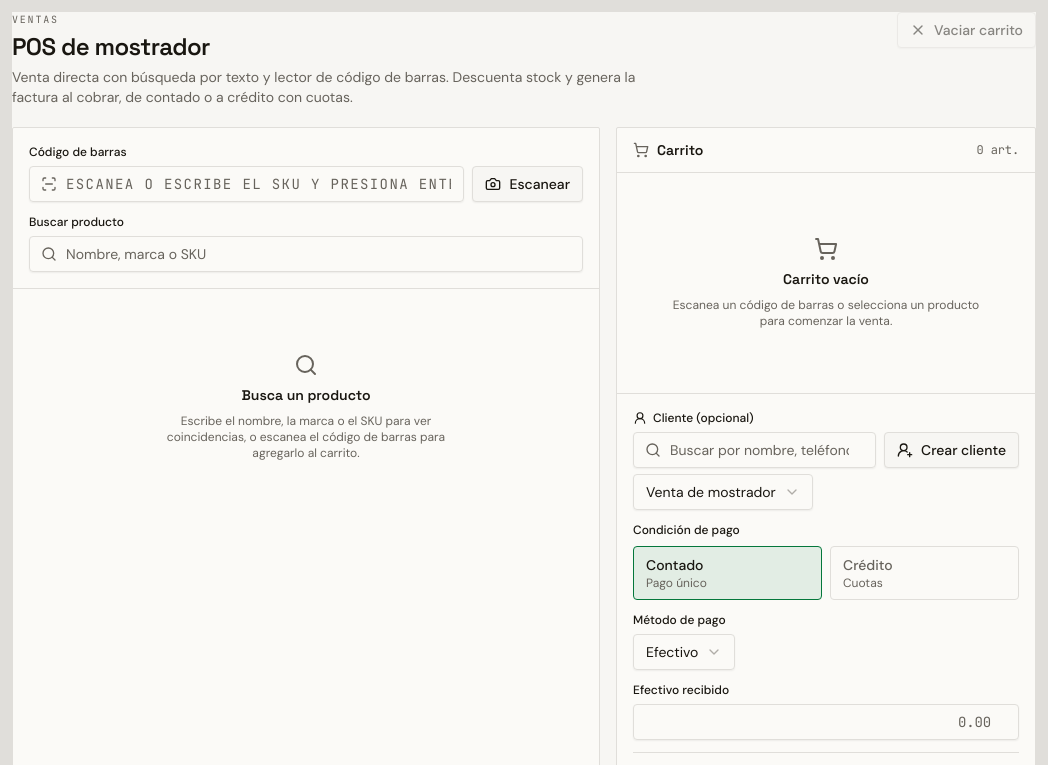
PosPage customer search (cover) › does not show a stale no-results message for the previous term while the new one loads
Type "Zzz" into the search field with test id "pos.customer_search_input".
click(754, 450); type("Zzz")  # box [633,432,876,468]
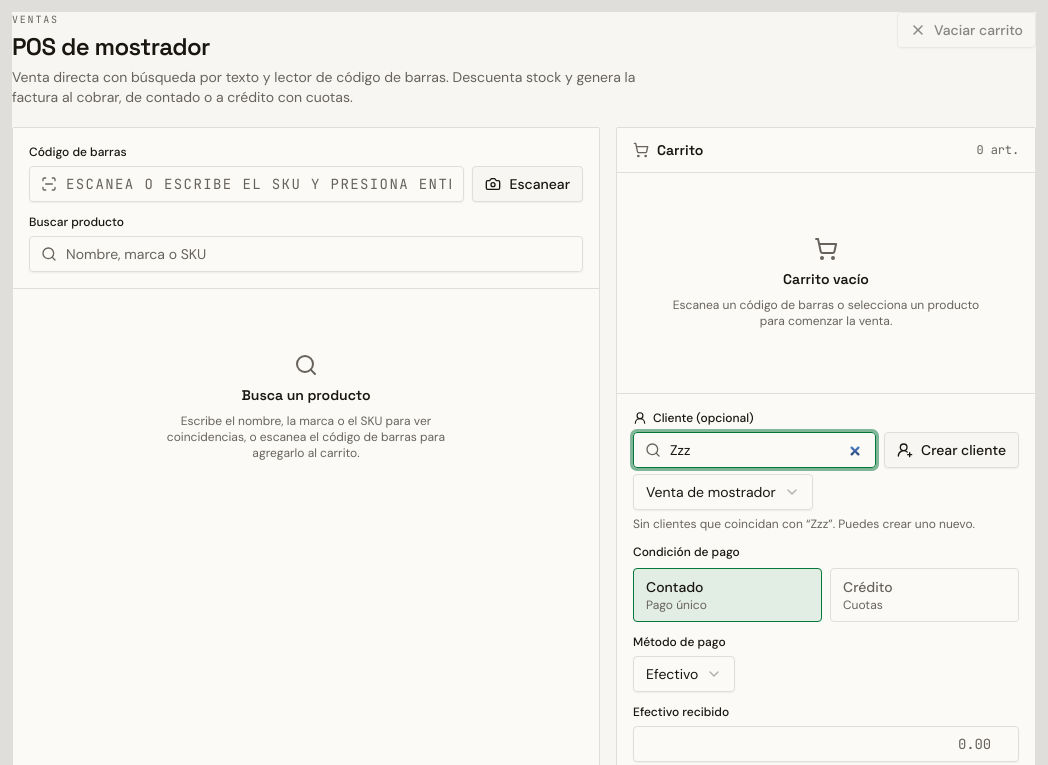
Result: the text with test id "pos.customer_search_empty_state" is shown at [633,516,1019,532]
Type "Ana" into the search field with test id "pos.customer_search_input".
click(754, 450); type("Ana")  # box [633,432,876,468]
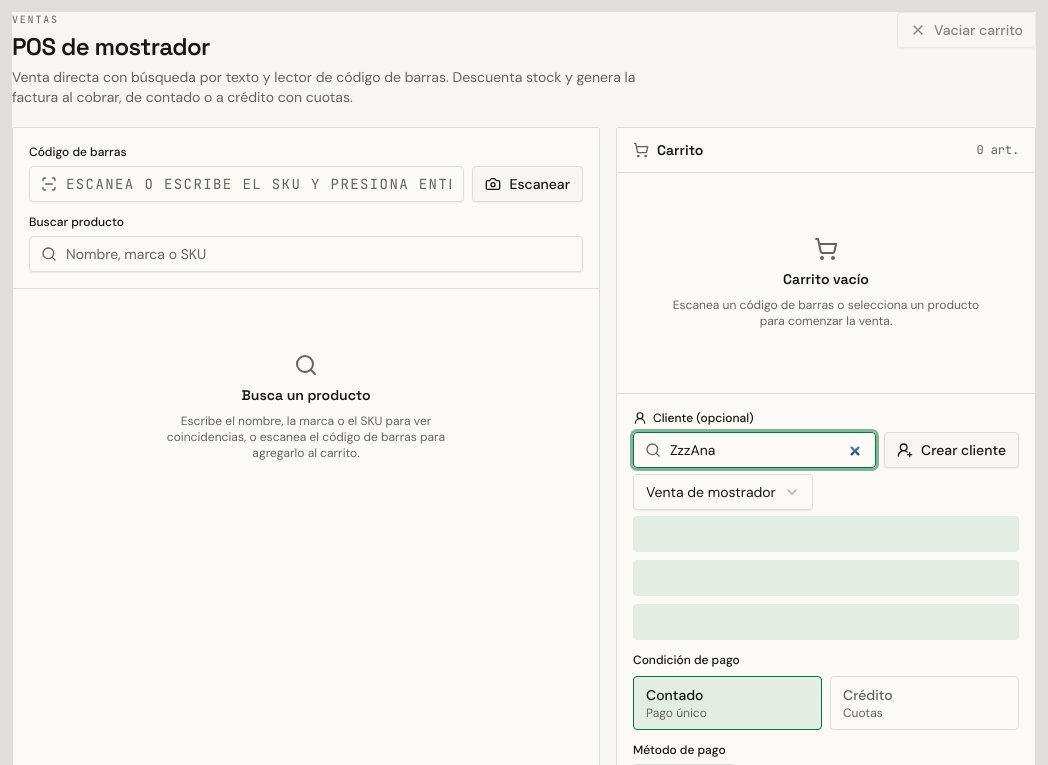
Result: the element with test id "pos.customer_search_loading_state" is shown at [633,516,1019,640]
